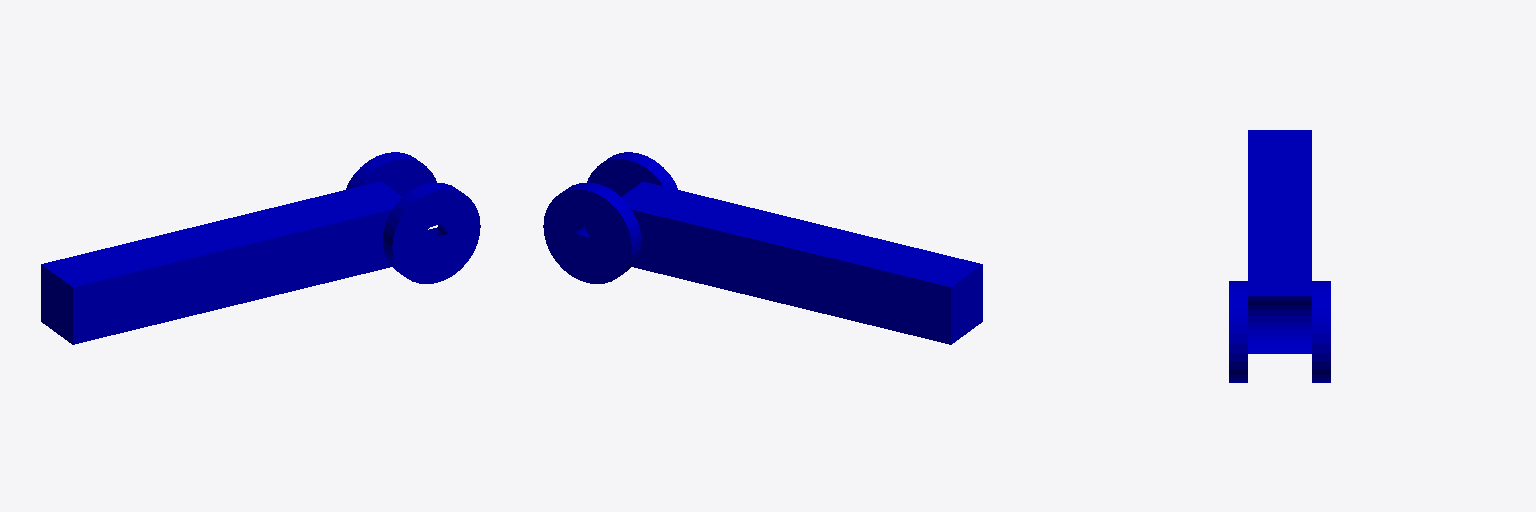
The model's file is bar2.obj.
3 renders of one model, left to right at view 1: azimuth 30°, elevation 25°; view 2: azimuth 150°, elevation 25°; view 3: azimuth 270°, elevation 25°, orthographic.
Visible parts, largest first — view 1: J2_Cube.004; view 2: J2_Cube.004; view 3: J2_Cube.004.
Boxes of the visible parts, x1,y1,x2,y2 form: J2_Cube.004: [41, 152, 480, 344]; J2_Cube.004: [543, 152, 982, 344]; J2_Cube.004: [1229, 130, 1330, 382].
Size of the model in its own units: 9.01 by 2 by 2.